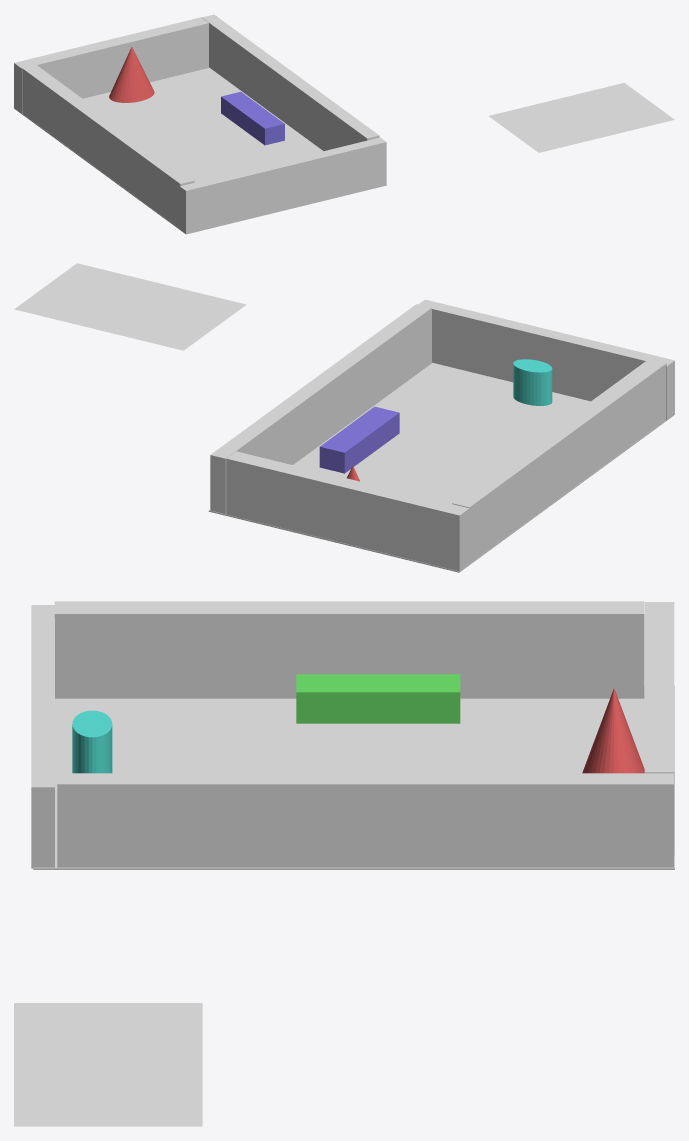
File: map.gltf
The picture shows the model from 3 angles, top to bottom: view 1: azimuth 30°, elevation 25°; view 2: azimuth 150°, elevation 25°; view 3: azimuth 270°, elevation 25°; orthographic projection. The views are drawn at different scales.
Parts seen in each view (by area): view 1: Cube.001, Cube.002, Cube.005, Cube.003, Cube.004, Cube, Device-1, Device-4; view 2: Cube.001, Cube.004, Cube.005, Cube.003, Cube.002, Cube, Device-1, Device-2; view 3: Cube.003, Cube.005, Cube.001, Cube, Device-3, Cube.002, Cube.004, Device-4, Device-2.
Part boxes in pixels (left/top/right/bottom): Cube.001: left=14, top=67, right=386, bottom=229; Cube.002: left=179, top=137, right=386, bottom=234; Cube.005: left=22, top=65, right=194, bottom=228; Cube.003: left=202, top=14, right=379, bottom=150; Cube.004: left=14, top=17, right=208, bottom=113; Cube: left=489, top=83, right=674, bottom=152; Device-1: left=221, top=91, right=284, bottom=145; Device-4: left=109, top=46, right=154, bottom=102; Cube.001: left=208, top=362, right=666, bottom=572; Cube.004: left=226, top=451, right=469, bottom=571; Cube.005: left=452, top=359, right=666, bottom=563; Cube.003: left=210, top=304, right=431, bottom=514; Cube.002: left=418, top=299, right=674, bottom=420; Cube: left=14, top=263, right=246, bottom=350; Device-1: left=319, top=406, right=399, bottom=473; Device-2: left=513, top=359, right=552, bottom=405; Cube.003: left=57, top=773, right=673, bottom=867; Cube.005: left=54, top=601, right=644, bottom=698; Cube.001: left=33, top=685, right=674, bottom=869; Cube: left=14, top=1003, right=202, bottom=1126; Device-3: left=296, top=674, right=460, bottom=723; Cube.002: left=31, top=605, right=54, bottom=868; Cube.004: left=644, top=602, right=674, bottom=855; Device-4: left=582, top=688, right=644, bottom=773; Device-2: left=72, top=710, right=112, bottom=773.
Bounding box in the file's own units: 27.71 × 2.7 × 17.57.
